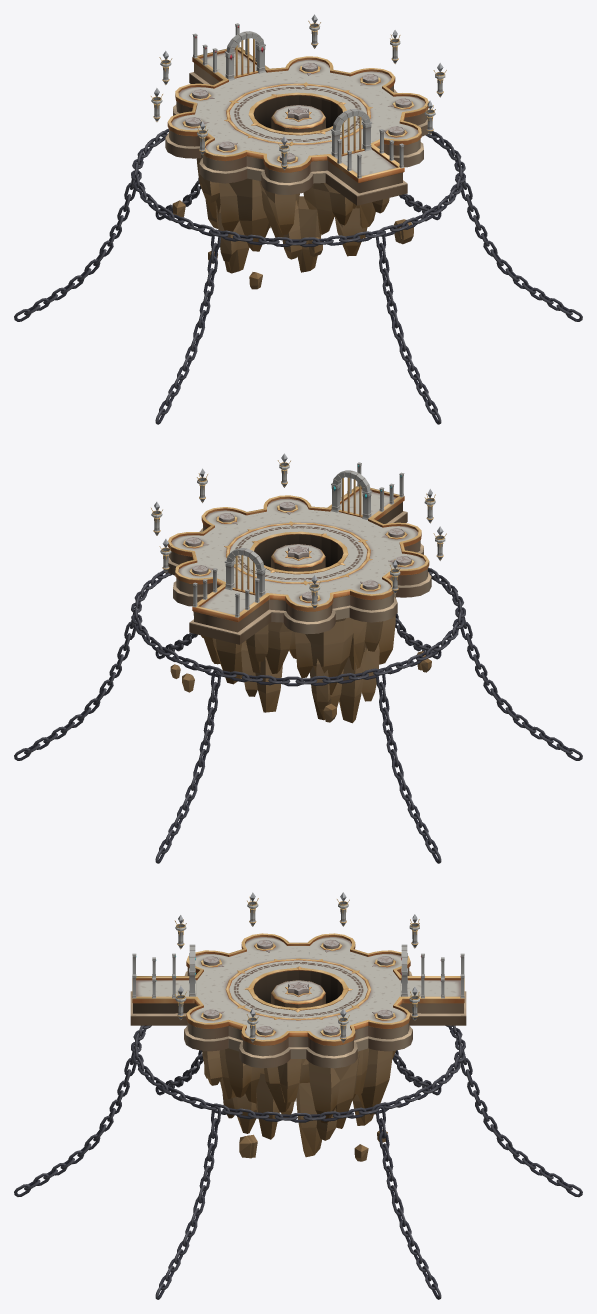
Rendered from background.FBX.
3 renders of one model, top to bottom at view 1: azimuth 30°, elevation 25°; view 2: azimuth 150°, elevation 25°; view 3: azimuth 270°, elevation 25°, orthographic.
Parts seen in each view (by area): view 1: floor, Object035, Object130, Object071, Object053, Object047, Object038, Object052, Object051, Object050; view 2: floor, Object037, Object071, Object130, Object052, Object122, Object040, Object036, Object049, Object042, Object043, Object035; view 3: floor, Object039, Object056, Object042, Object041, Object046, Object054, Object050, Object071, Object130, Object051, Object045.
Boxes of the visible parts, x1,y1,x2,y2 form: floor: (14,47,582,424); Object035: (219,178,270,251); Object130: (331,108,404,178); Object071: (192,23,265,80); Object053: (282,196,321,272); Object047: (303,183,352,234); Object038: (259,181,299,237); Object052: (216,205,249,273); Object051: (334,206,365,256); Object050: (356,198,389,228); floor: (14,486,582,863); Object037: (295,617,353,694); Object071: (192,548,265,617); Object130: (331,462,404,519); Object052: (339,643,379,723); Object122: (241,640,282,712); Object040: (266,622,296,673); Object036: (349,619,383,670); Object049: (309,659,343,720); Object042: (212,638,242,684); Object043: (246,624,268,673); Object035: (378,615,395,664); floor: (14,933,582,1299); Object039: (308,1051,359,1128); Object056: (296,1082,336,1157); Object042: (352,1048,392,1114); Object041: (225,1048,264,1103); Object046: (267,1059,301,1102); Object054: (255,1073,294,1139); Object050: (202,1049,235,1099); Object071: (401,944,464,998); Object130: (132,944,195,998); Object051: (222,1093,257,1133); Object045: (264,1059,309,1112).
Size of the model in its own units: 5591 by 3133 by 6451.
